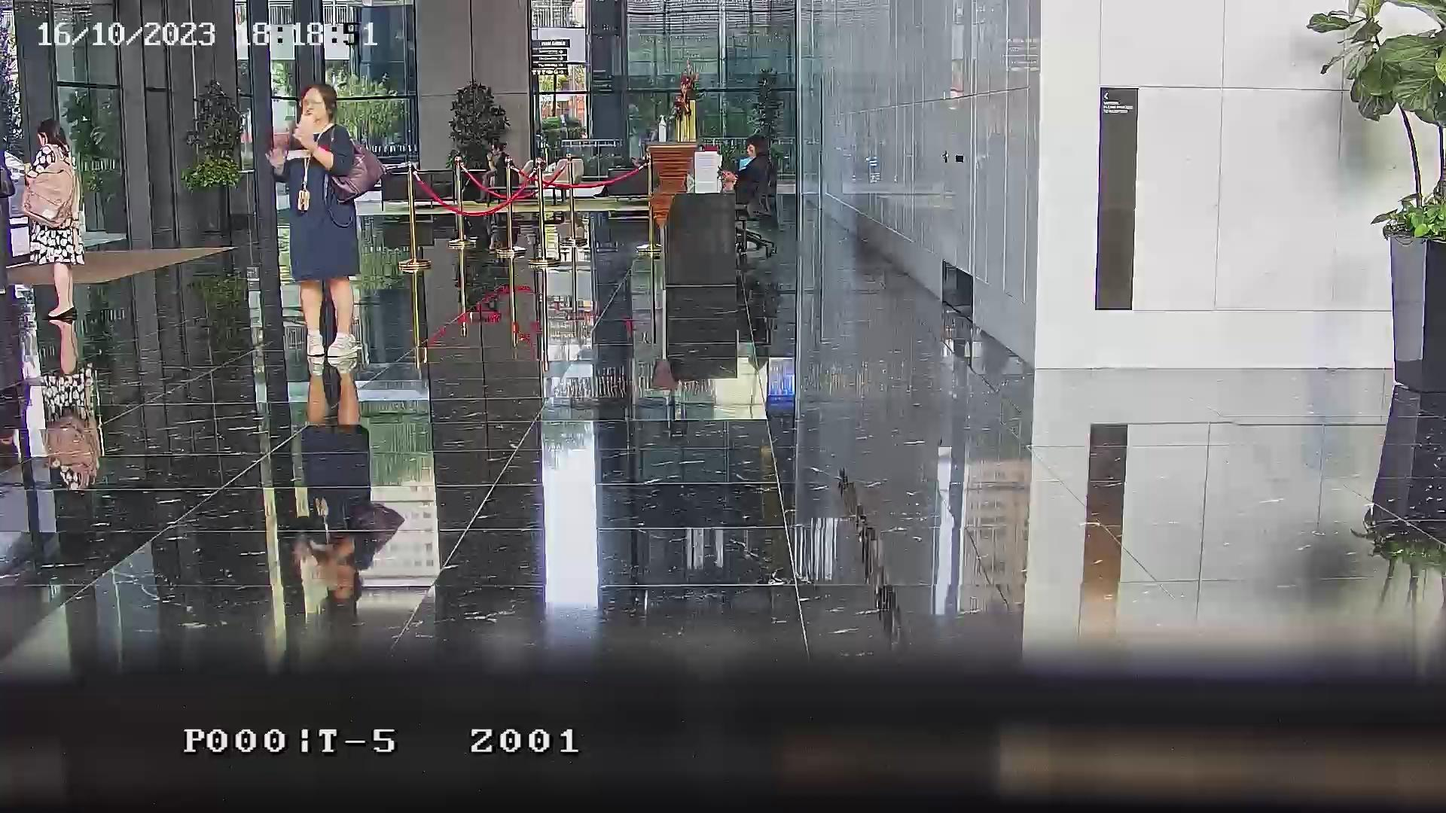person: (263, 82, 367, 358), (20, 118, 84, 323), (476, 142, 520, 204), (732, 135, 770, 204)
